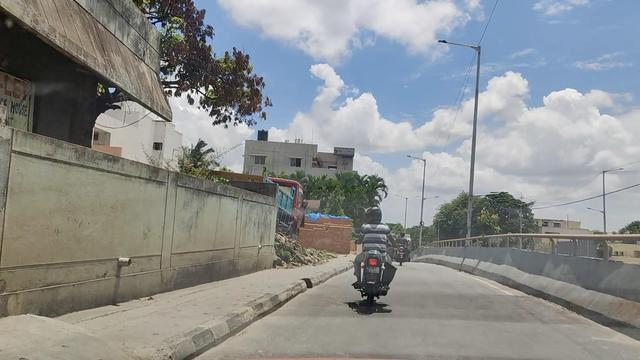RoadDamages: (501, 284, 568, 318)
